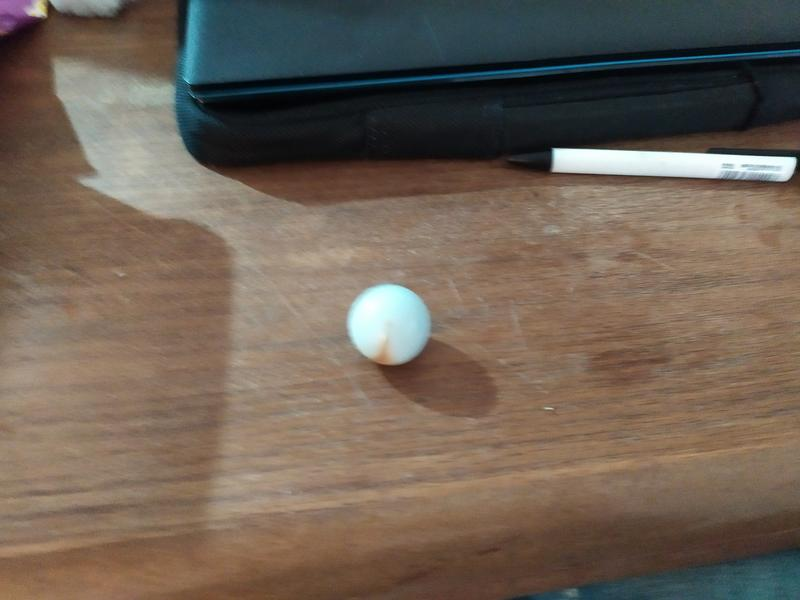Warning: (343, 281, 435, 368)
